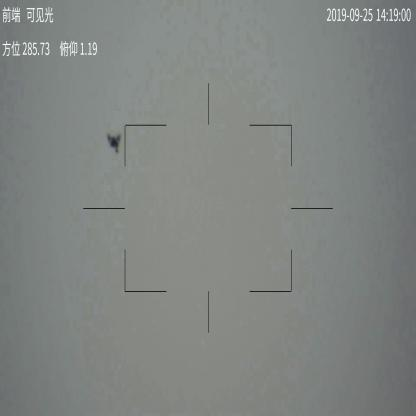uav: (106, 132, 123, 153)
